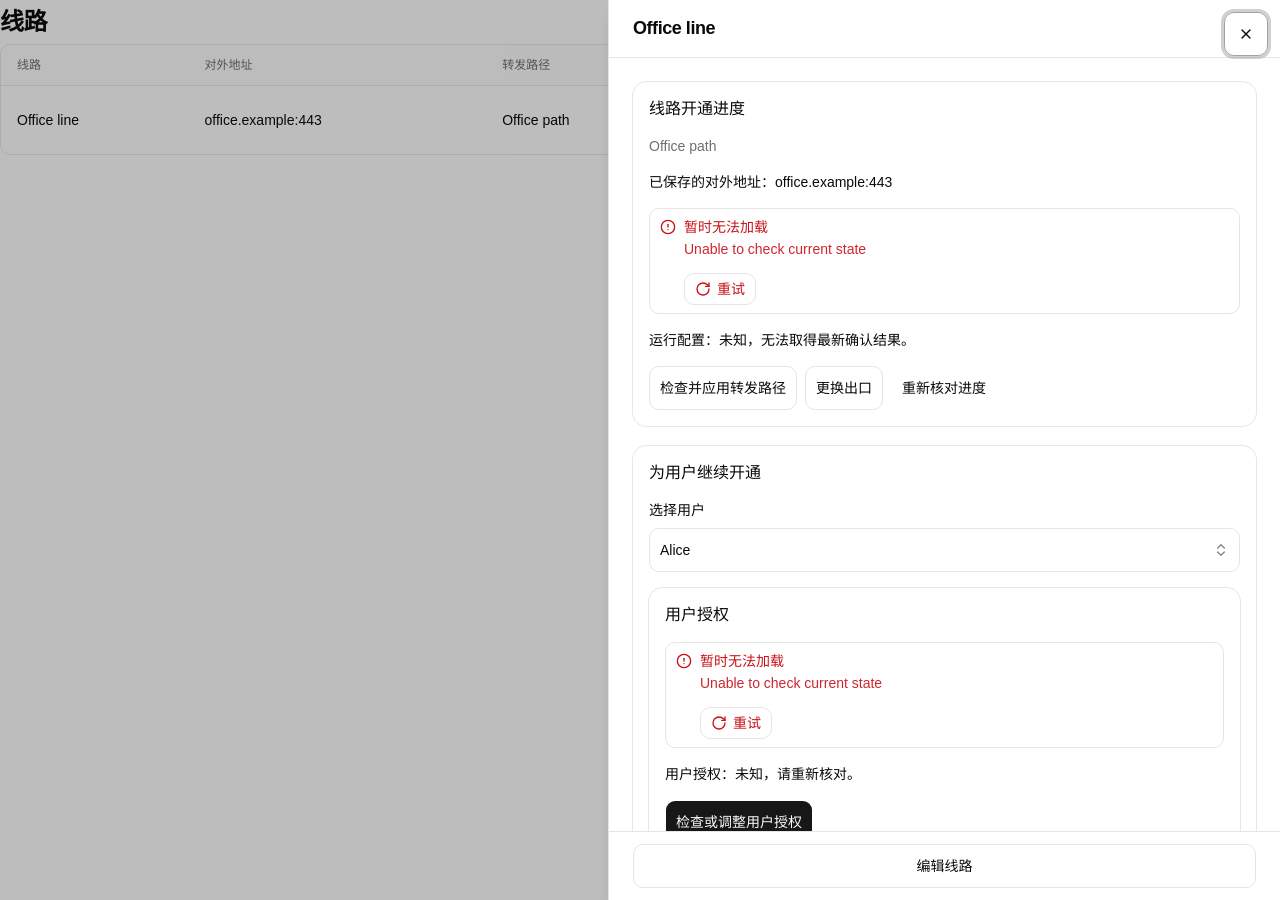
Test case: keeps unknown checks distinct from confirmed path and credentials, including failed rechecks
Expected: the text "用户授权：未知，请重新核对。" is shown, top-left (665, 766), bottom-right (861, 782)
Expected: the text "运行配置：未知，无法取得最新确认结果。" is shown, top-left (649, 332), bottom-right (915, 348)
Click the button "重新核对进度" at (944, 388), box top-left (891, 366), bottom-right (997, 410)
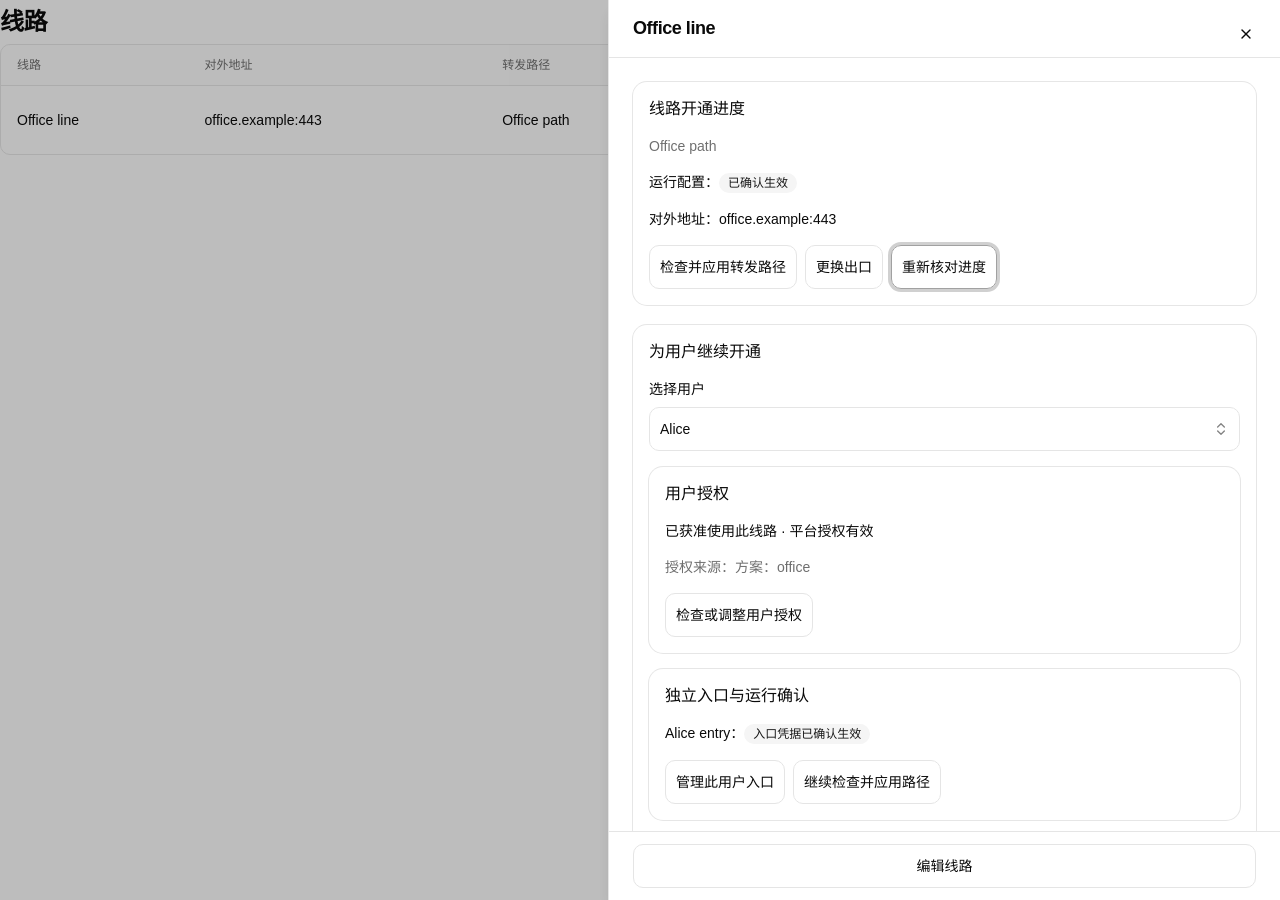
Expected: the text "入口凭据已确认生效" is shown, top-left (744, 724), bottom-right (870, 744)
Expected: the text "已确认生效" is shown, top-left (719, 173), bottom-right (797, 193)
Expected: the text "授权来源：方案：office" is shown, top-left (665, 559), bottom-right (810, 575)
Click the button "重新核对进度" at (944, 267), box top-left (891, 245), bottom-right (997, 289)
(page scrolled)
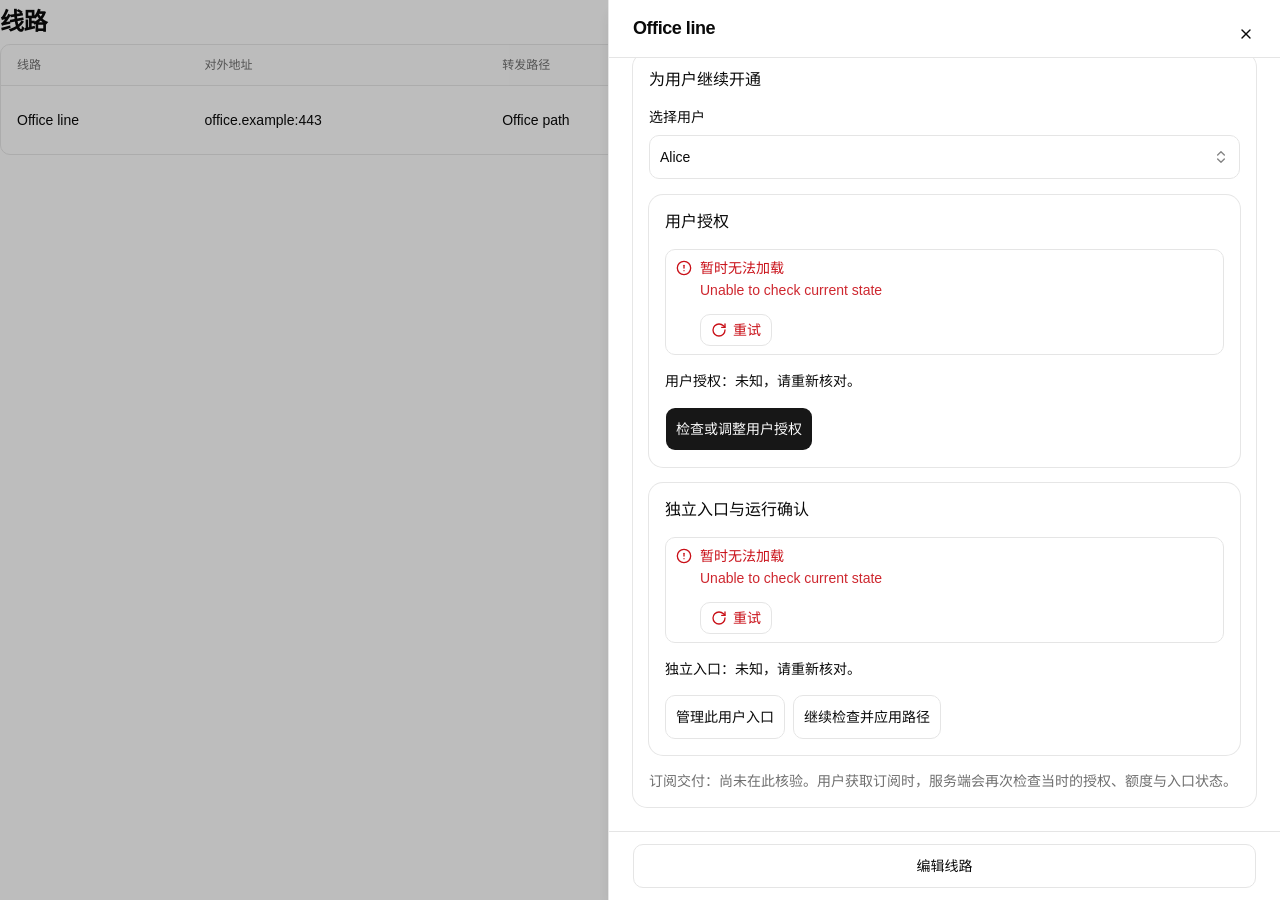
Expected: the text "独立入口：未知，请重新核对。" is shown, top-left (665, 661), bottom-right (861, 677)
Expected: the text "入口凭据已确认生效" is gone
Expected: the text "已确认生效" is gone
